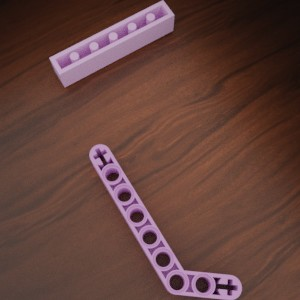lego: (89, 144, 241, 299), (49, 0, 174, 87)
